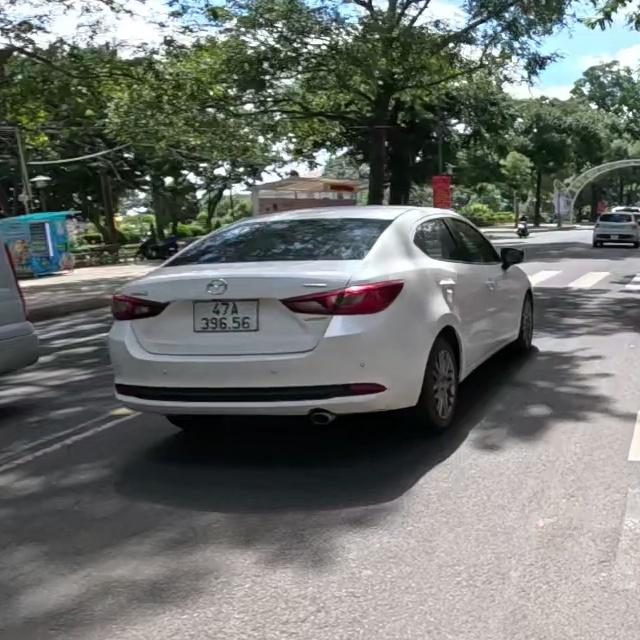license-plate: (193, 297, 259, 333)
